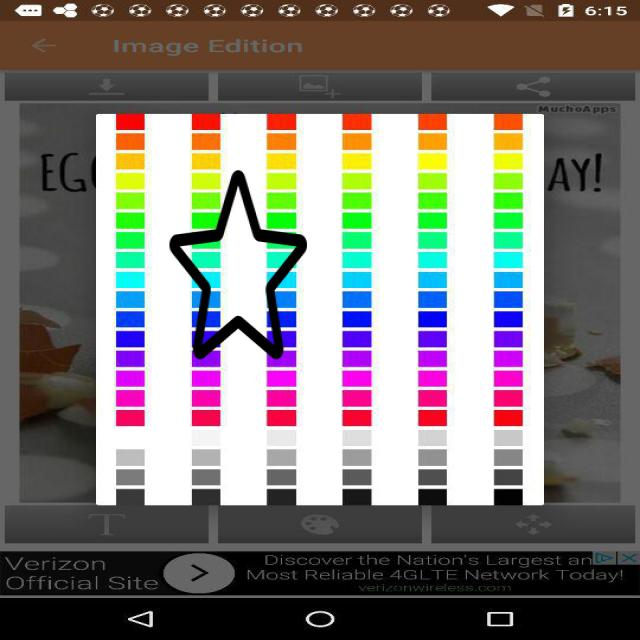forced continuity: (169, 166, 307, 363)
